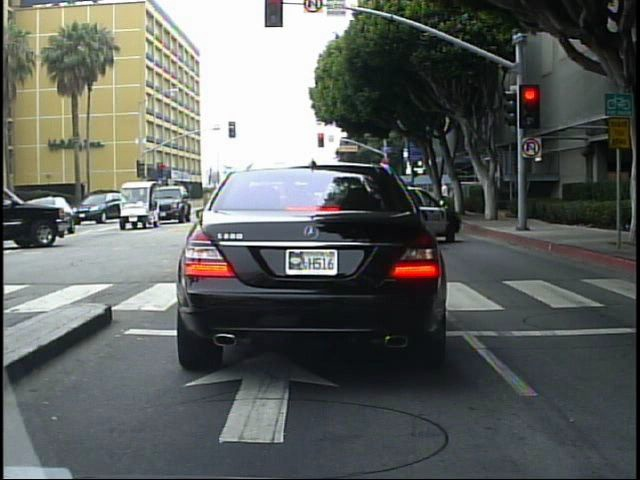person: (438, 180, 453, 213)
